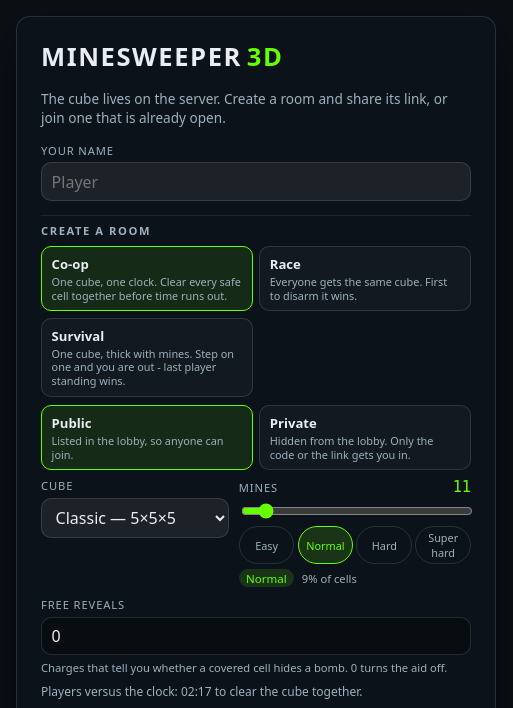
WelcomeScreen › picking a difficulty tier sets the mine count and the indicator
This screenshot has width=513, height=708.
What coordinates should you click on to do the following:
click the button with test id "welcome-tier-hard"
I would click on:
 (384, 545)
Its box is 356,526 -> 412,564.
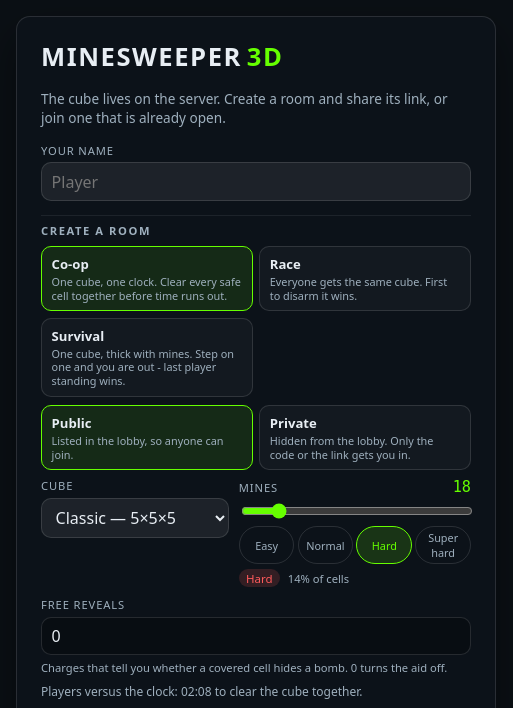
Expected: the text with test id "welcome-mines-value" reads "18", 453,478 -> 471,496
Expected: the text with test id "welcome-difficulty" reads "Hard", 246,571 -> 273,586
